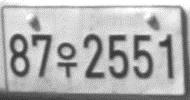1: (157, 32, 174, 79)
2: (82, 33, 106, 79)
5: (132, 34, 154, 78), (108, 34, 129, 80)
7: (30, 33, 53, 77)
8: (9, 33, 30, 77)
우: (56, 41, 78, 78)
